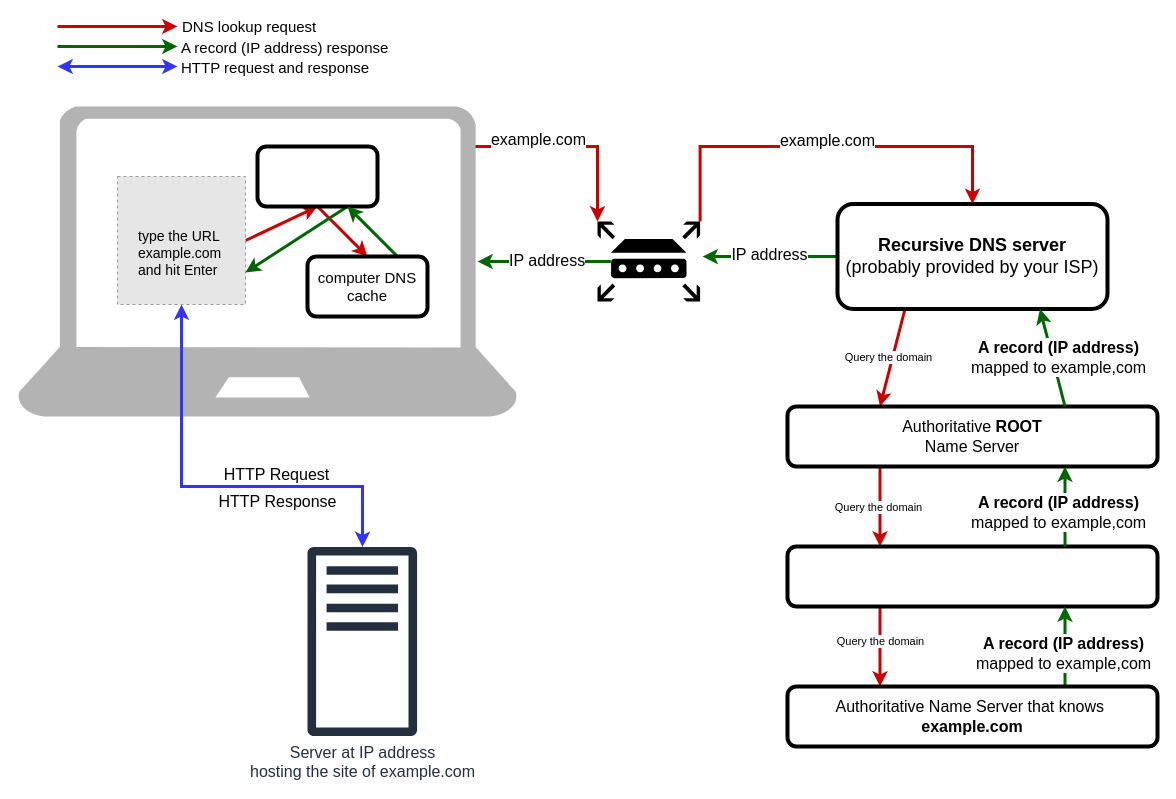
This 1176x799 diagram has some shape labels left out. Grey dashed boxes stand in for pictures. The shapes that lost their labels are listed below. From the top down, each one's box as (x1, y1, x2, y2) in pixels, then its label:
(255, 144, 379, 208): browser DNS cache
(597, 221, 700, 301): Home Router LAN DNS cache
(785, 544, 1159, 608): Authoritative TLD (top level domain) Name Server for .com
